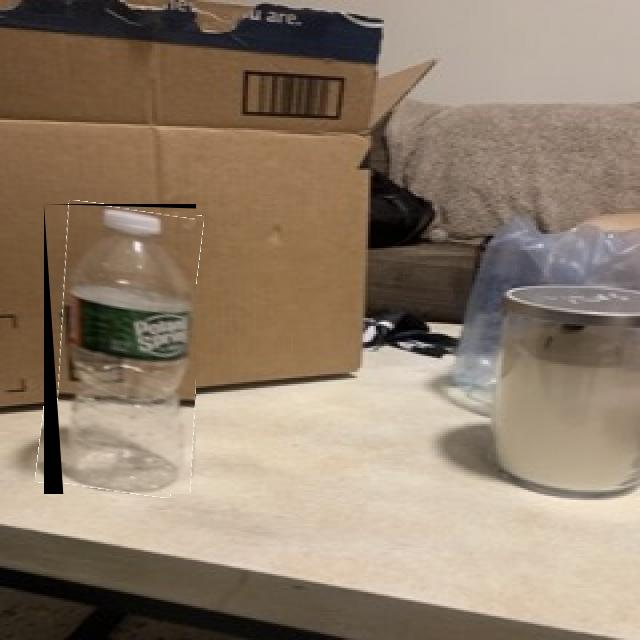water_bottle: (44, 204, 196, 494)
